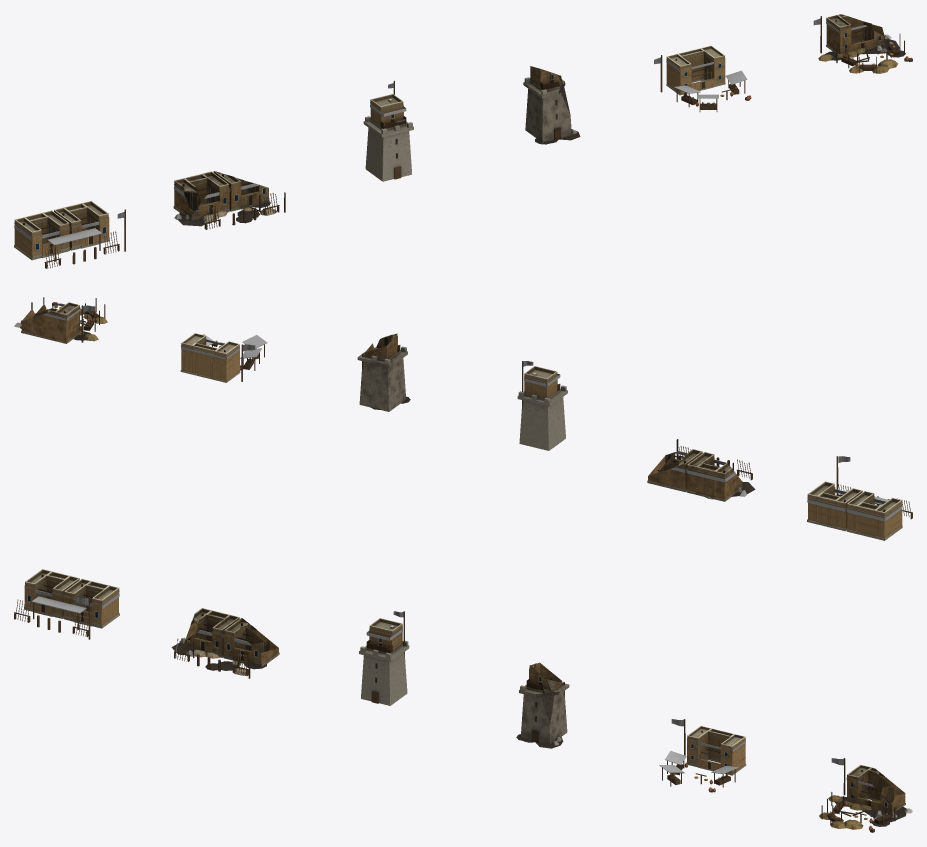
The model's file is rts-bronze-israelite.glb.
3 views of the same model, one above another, from view 1: azimuth 30°, elevation 25°; view 2: azimuth 150°, elevation 25°; view 3: azimuth 330°, elevation 25° (orthographic).
Parts seen in each view (by area): view 1: LOD0, LOD0.001, LOD0.002, LOD0.005, LOD0.004, LOD0.003; view 2: LOD0, LOD0.001, LOD0.002, LOD0.003, LOD0.004, LOD0.005; view 3: LOD0, LOD0.001, LOD0.005, LOD0.002, LOD0.004, LOD0.003.
Boxes of the visible parts, x1,y1,x2,y2 form: LOD0: (14,201,125,268); LOD0.001: (173,171,285,229); LOD0.002: (363,80,413,181); LOD0.005: (813,14,912,73); LOD0.004: (654,45,751,111); LOD0.003: (523,66,580,144); LOD0: (807,456,912,540); LOD0.001: (647,439,755,501); LOD0.002: (517,361,567,450); LOD0.003: (357,333,410,411); LOD0.004: (180,333,267,382); LOD0.005: (14,297,107,343); LOD0: (14,569,119,639); LOD0.001: (171,608,279,678); LOD0.005: (819,758,912,832); LOD0.002: (359,611,409,705); LOD0.004: (659,719,746,792); LOD0.003: (516,662,569,748).
Size of what is drawn, in the model's own units: 16.4 by 1.48 by 1.36.
2 materials, 2 textured.
